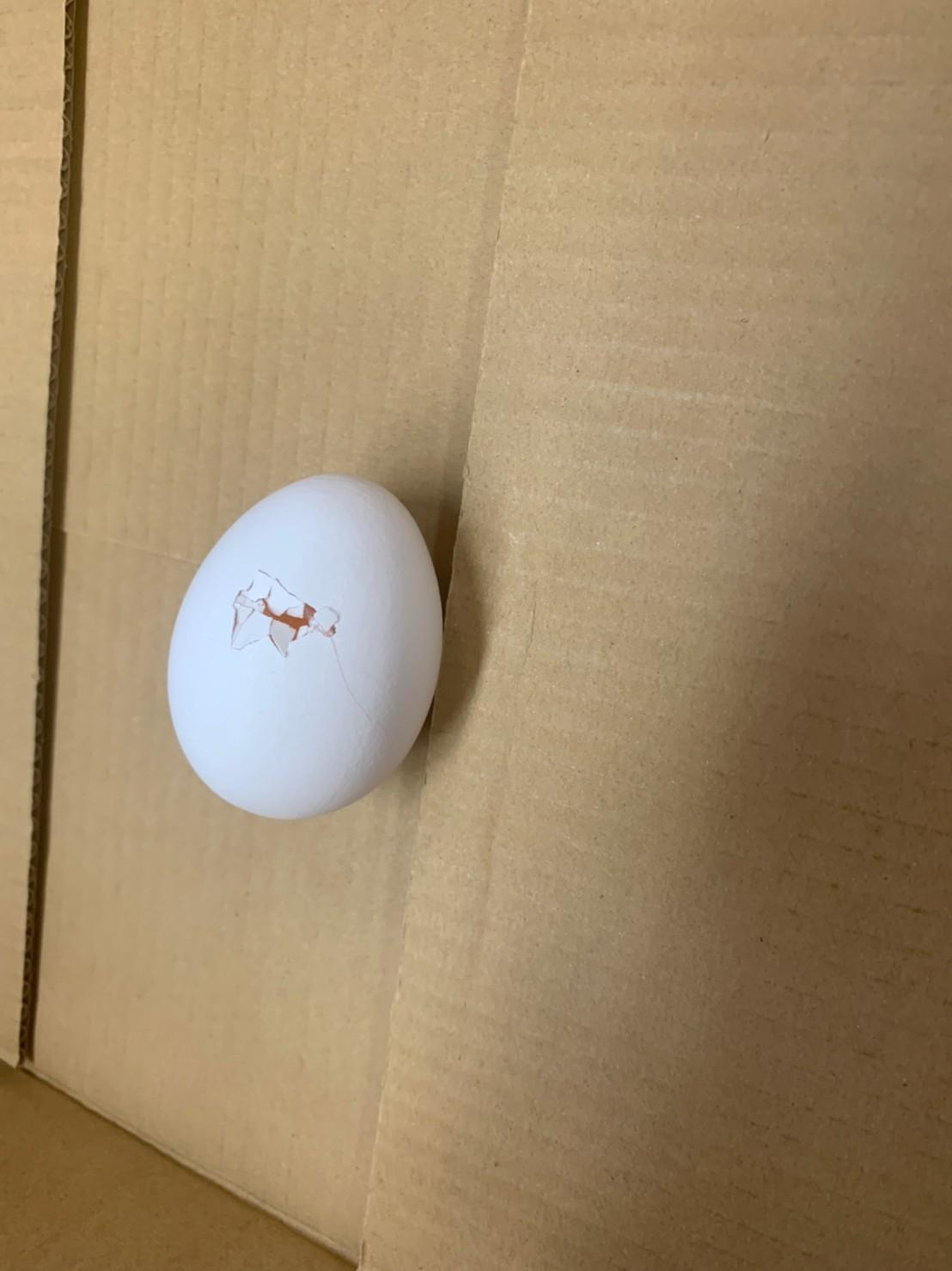egg: (152, 464, 449, 821)
